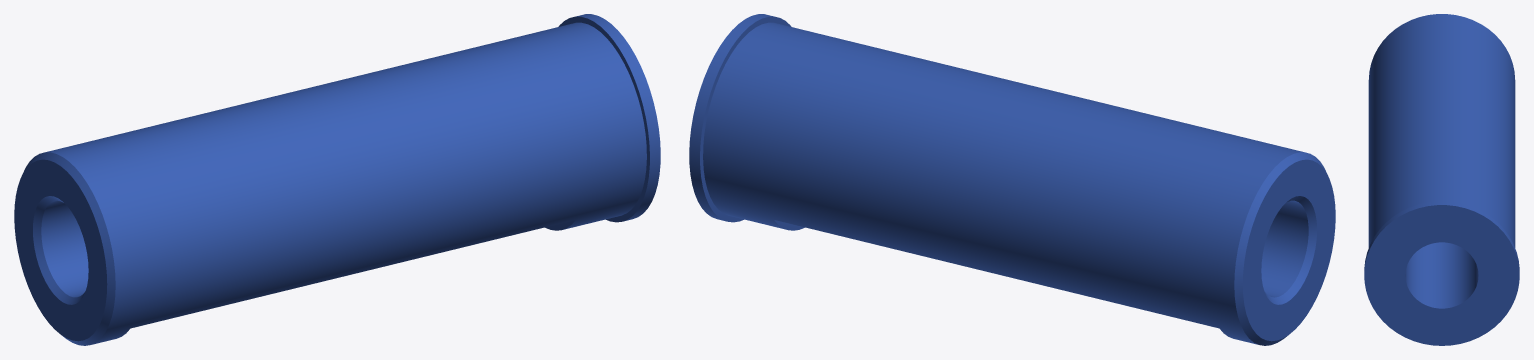
The model's file is main_wheel_mount.dae.
The picture shows the model from 3 angles, left to right: view 1: azimuth 30°, elevation 25°; view 2: azimuth 150°, elevation 25°; view 3: azimuth 270°, elevation 25°; orthographic projection. The views are drawn at different scales.
Visible parts, largest first — view 1: 043033-10530NA1550F20-V1.8; view 2: 043033-10530NA1550F20-V1.8; view 3: 043033-10530NA1550F20-V1.8.
Part boxes in pixels (x1,y1,x2,y2): 043033-10530NA1550F20-V1.8: (14,14,660,345); 043033-10530NA1550F20-V1.8: (689,14,1335,345); 043033-10530NA1550F20-V1.8: (1364,14,1519,345).
Size of the model in its own units: 0.051 by 0.017 by 0.017.
